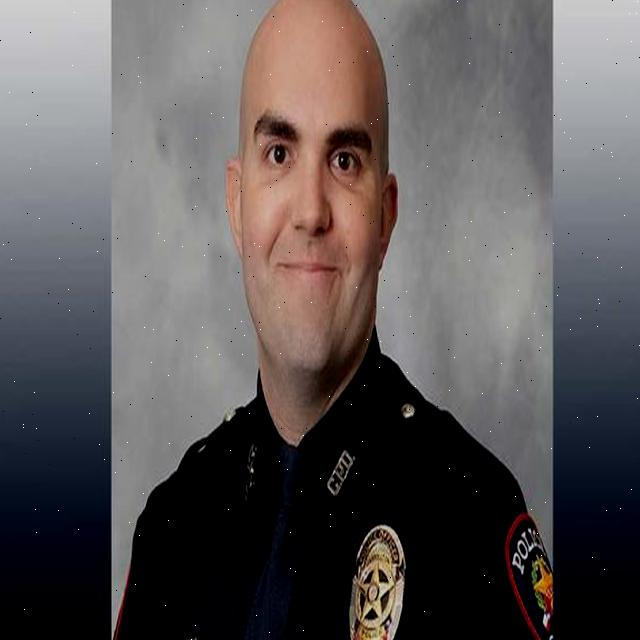police: (136, 0, 548, 640)
